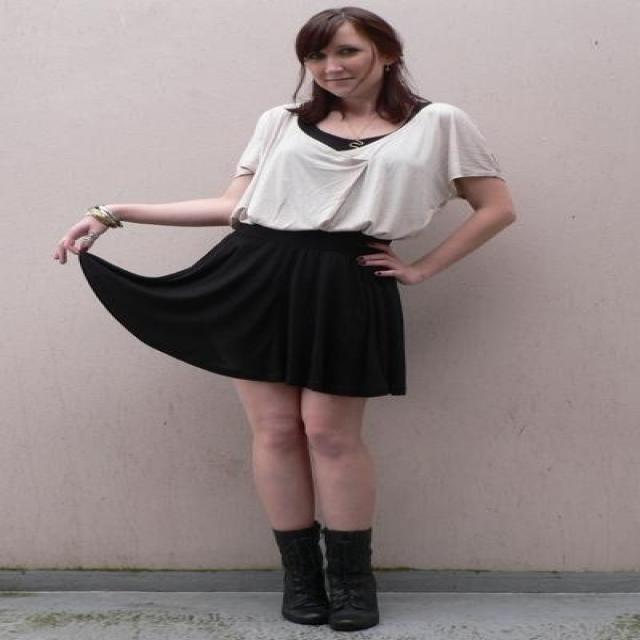shirt: (237, 102, 494, 236)
shoe: (274, 525, 379, 631)
skirt: (78, 222, 405, 397)
